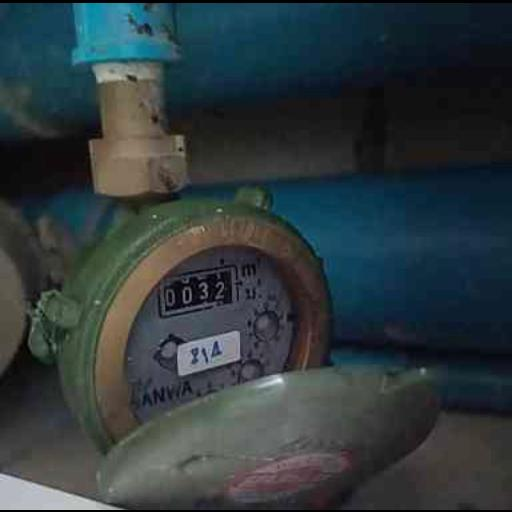0: (178, 275, 197, 308), (163, 280, 180, 311)
2: (213, 269, 234, 306)
3: (194, 273, 214, 305)
border_water_meter_number: (152, 262, 245, 318)
